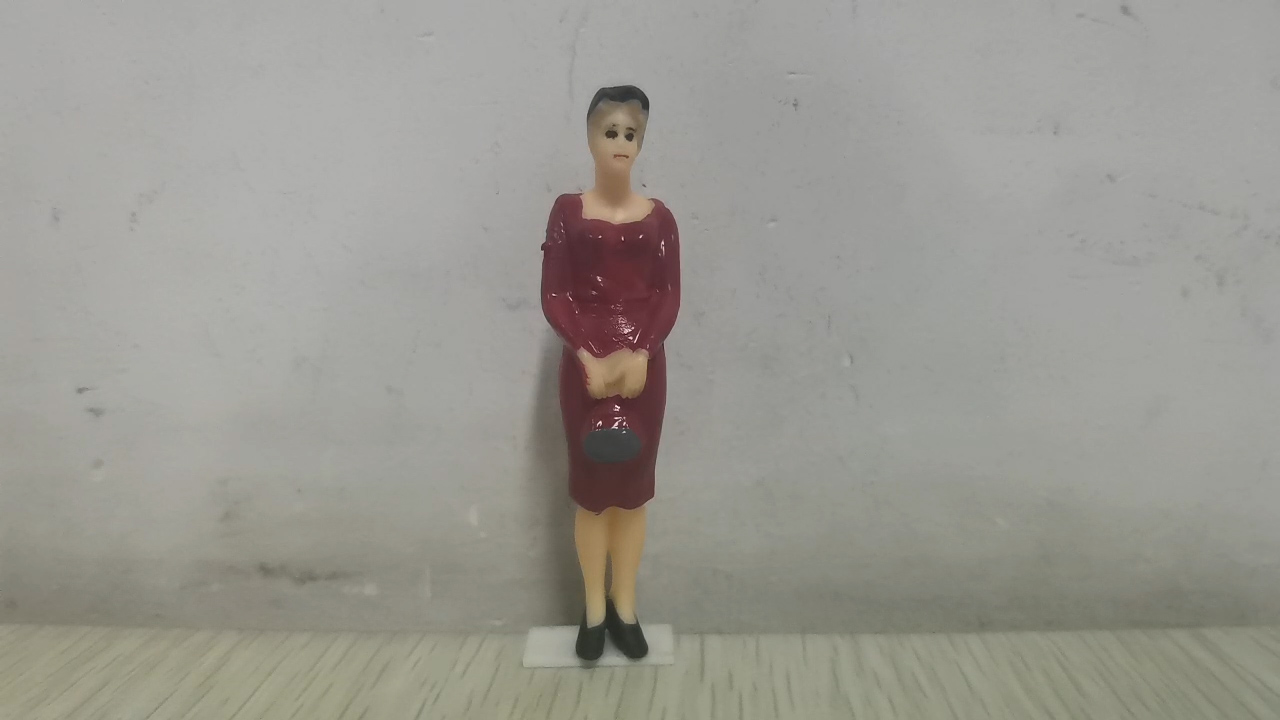person: (539, 84, 686, 661)
